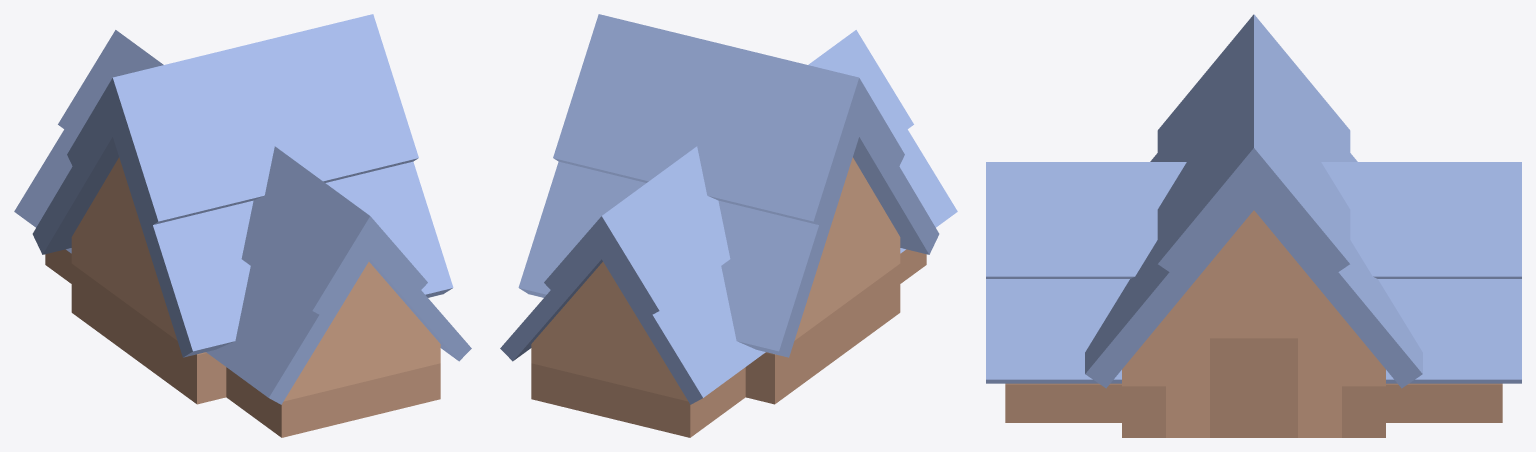
File: unit_houseLarge.glb
3 views of the same model, side by side, from view 1: azimuth 30°, elevation 25°; view 2: azimuth 150°, elevation 25°; view 3: azimuth 270°, elevation 25° (orthographic). The views are drawn at different scales.
Parts seen in each view (by area): view 1: unit_houseLarge; view 2: unit_houseLarge; view 3: unit_houseLarge.
Boxes of the visible parts, x1,y1,x2,y2 form: unit_houseLarge: (14, 14, 471, 437); unit_houseLarge: (500, 14, 957, 437); unit_houseLarge: (986, 14, 1521, 437).
Bounding box in the file's own units: 0.36 × 0.3781 × 0.6094.
